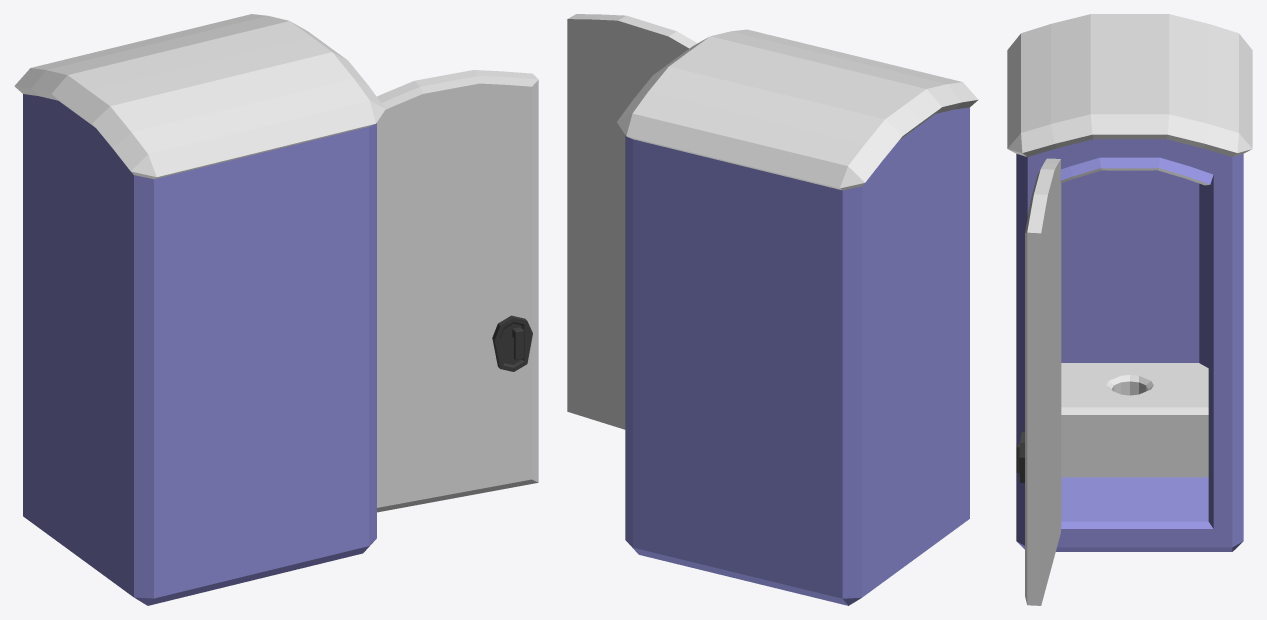
File: Toilet B.fbx
3 renders of one model, left to right at view 1: azimuth 30°, elevation 25°; view 2: azimuth 150°, elevation 25°; view 3: azimuth 270°, elevation 25°, orthographic. The views are drawn at different scales.
Visible parts, largest first — view 1: Toilet B; view 2: Toilet B; view 3: Toilet B.
Boxes of the visible parts, x1=… form: Toilet B: x1=14, y1=14, x2=538, y2=605; Toilet B: x1=567, y1=14, x2=978, y2=605; Toilet B: x1=1007, y1=14, x2=1252, y2=605.
Size of the model in its own units: 265 by 292 by 148.
